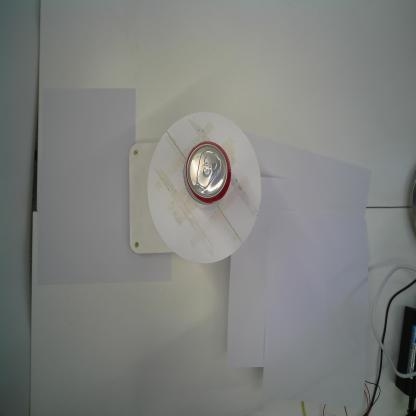Alcohol: (182, 139, 232, 207)
